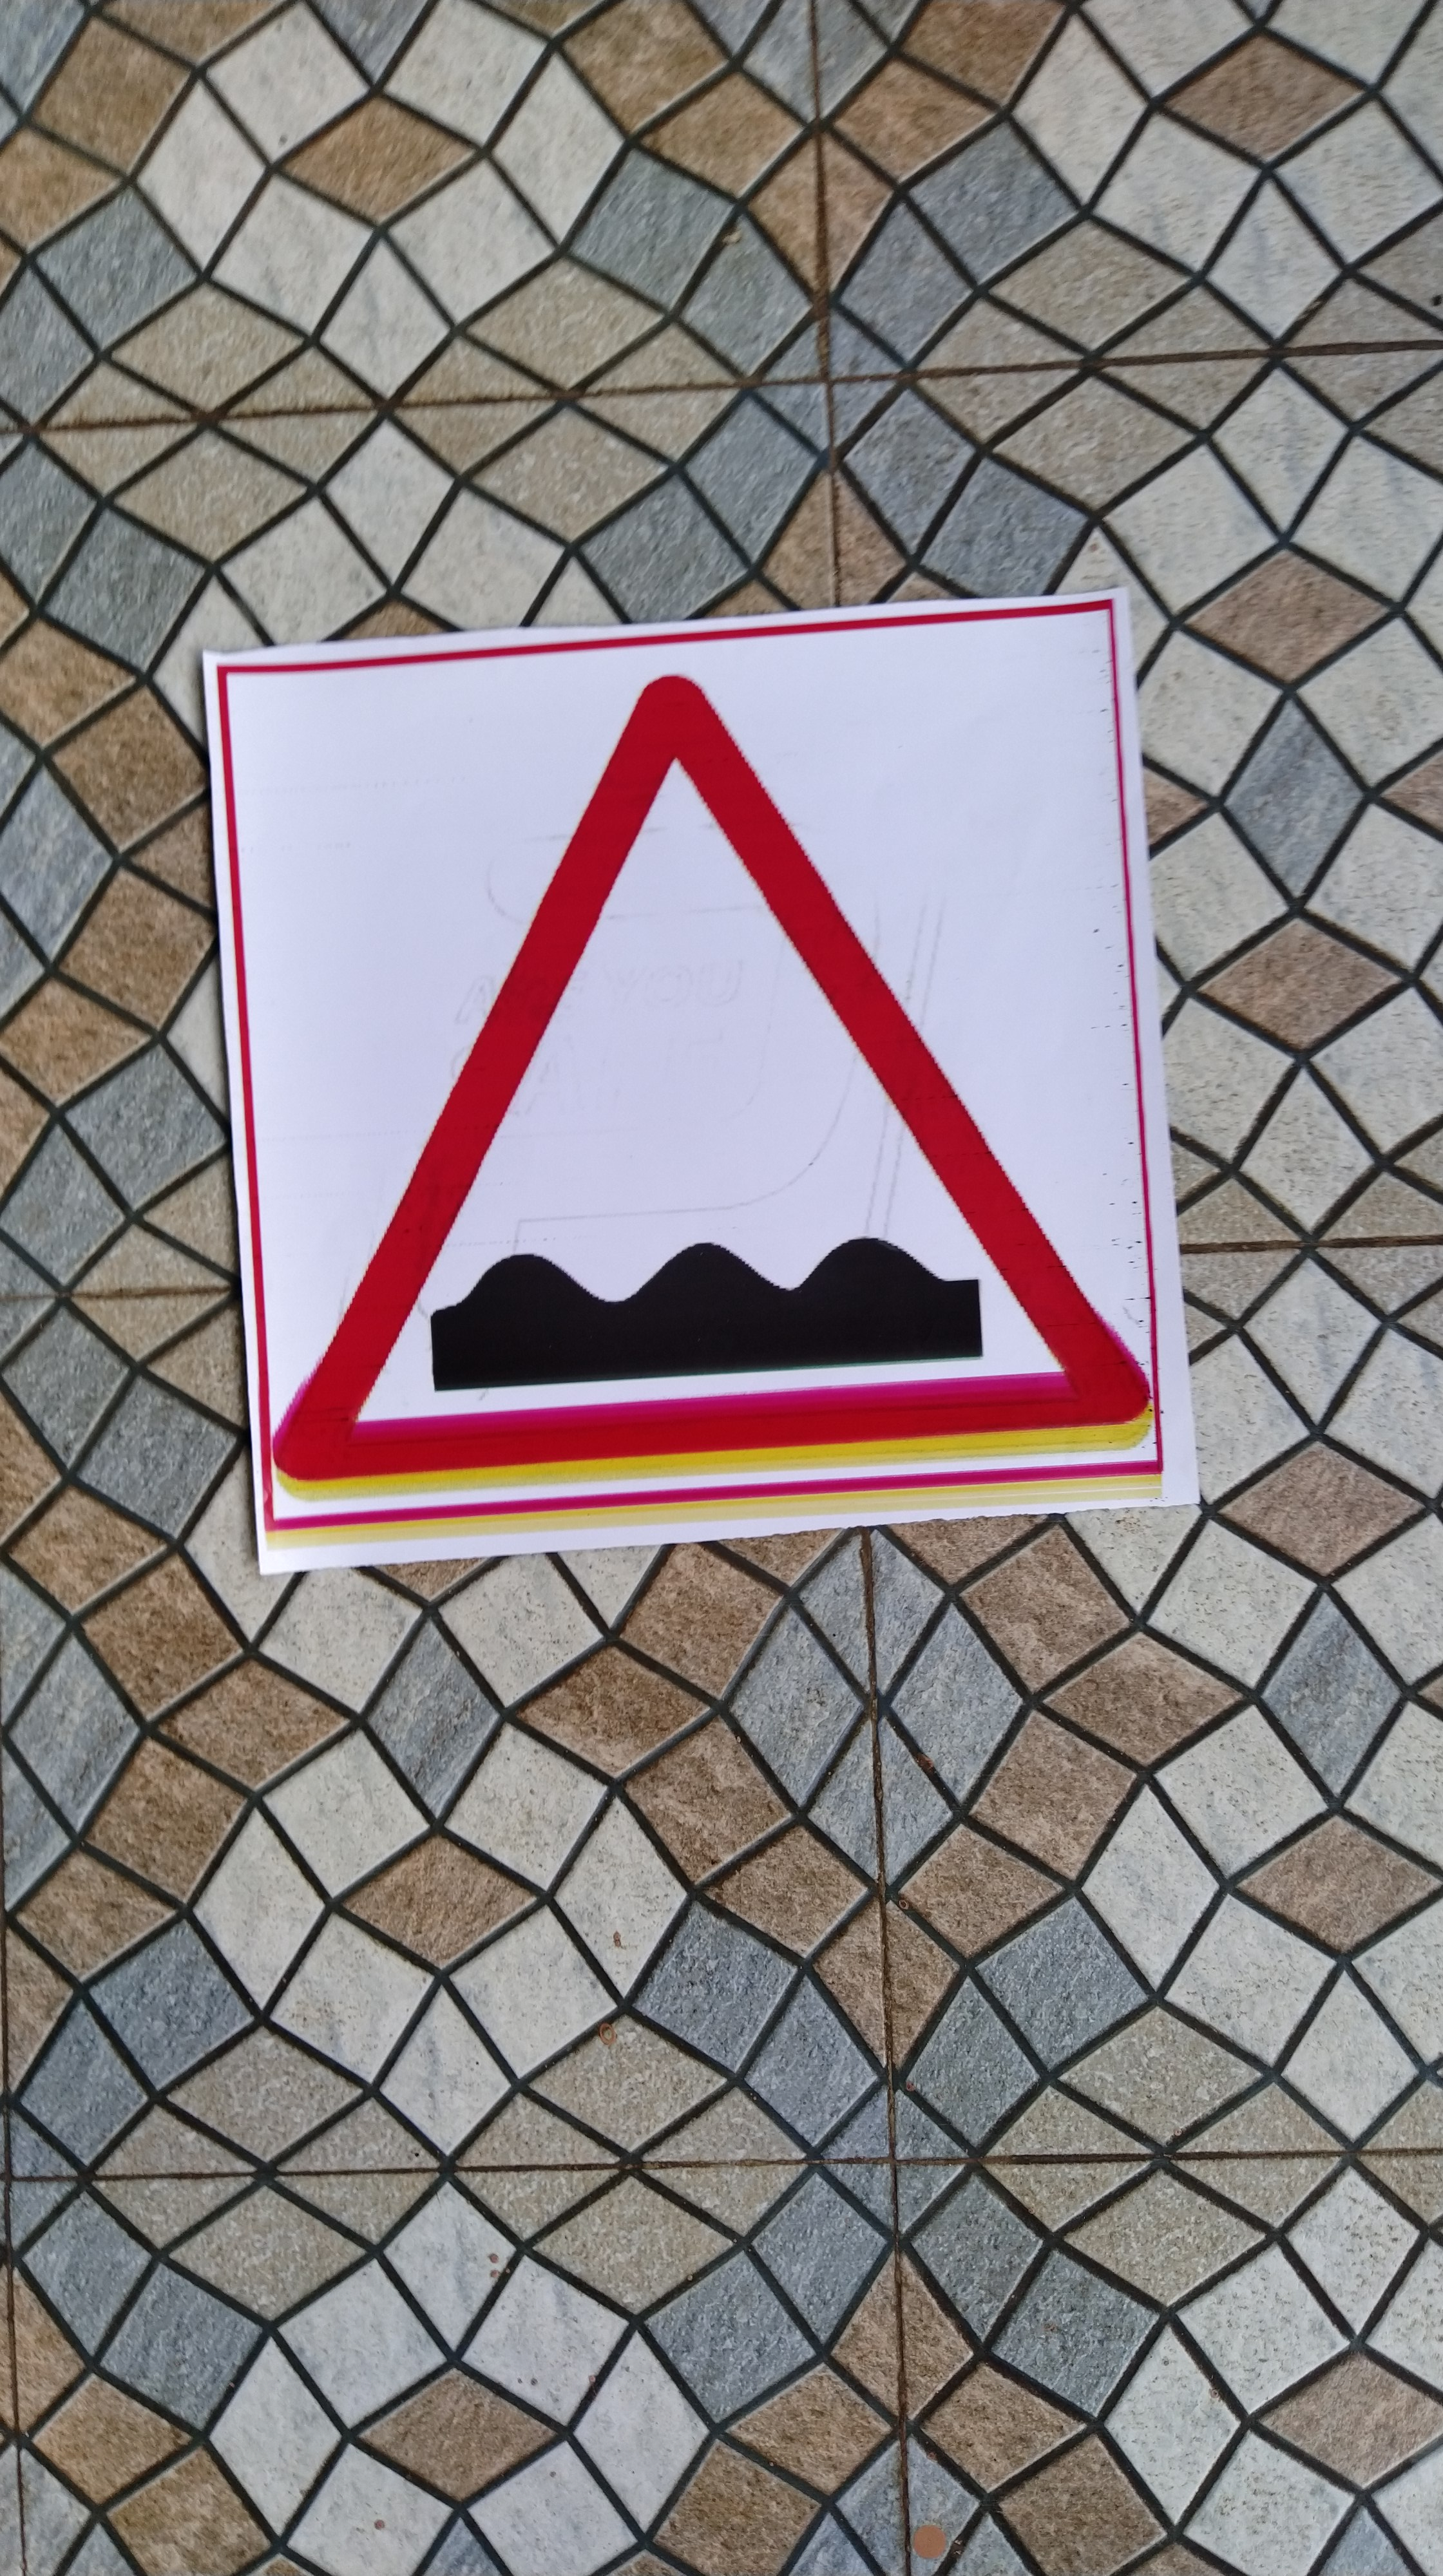speed breaker: (216, 665, 1190, 1520)
